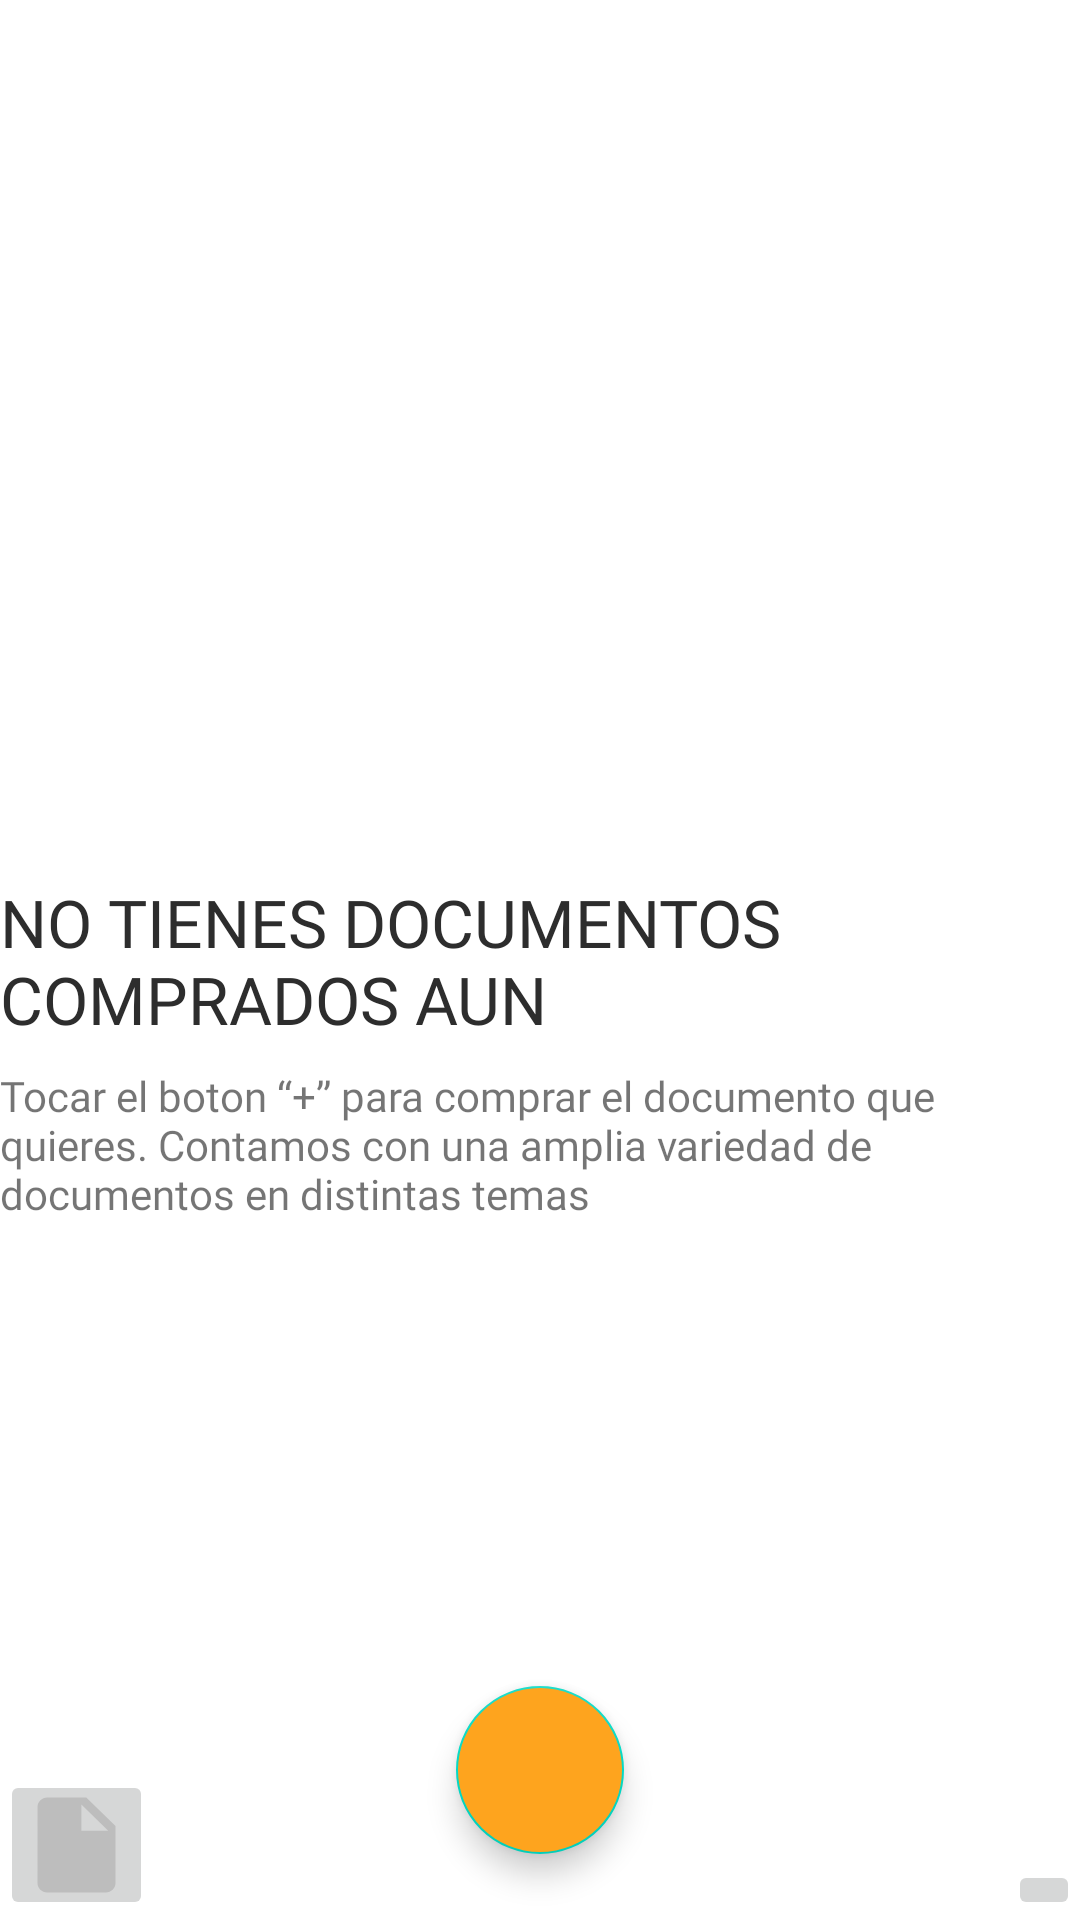

Icon bounding boxes for this 1080w x 1920h phone screenshot, format (x1, y1, x2, y2):
doc: (12, 1788, 141, 1902)
